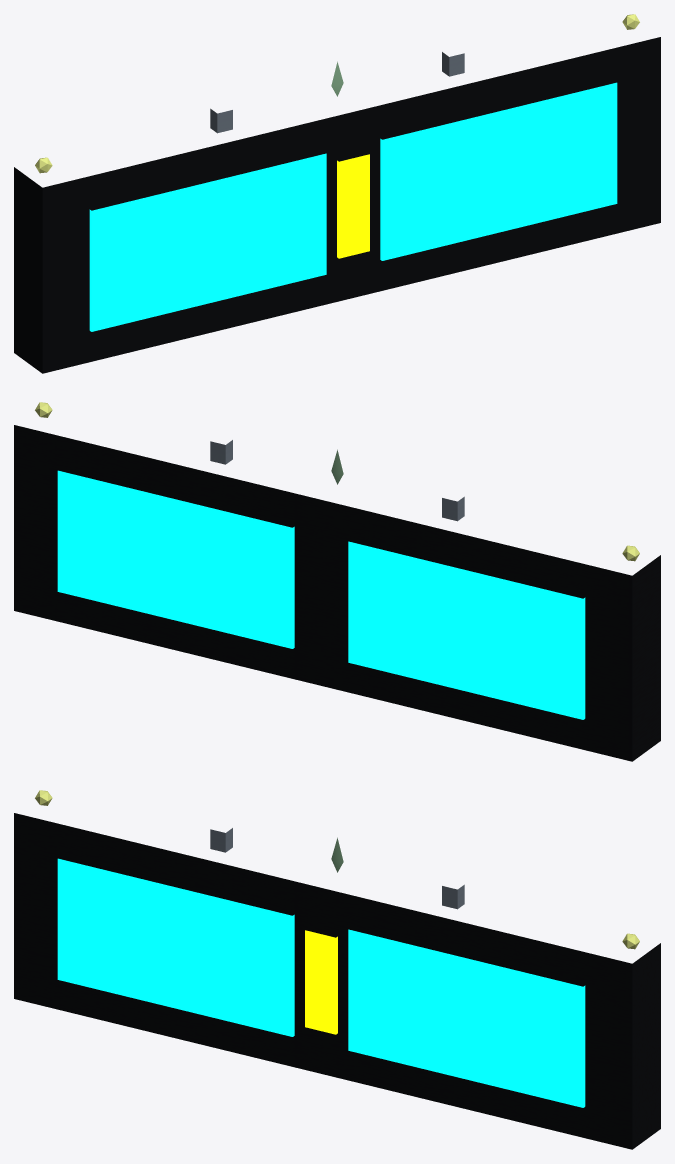
The model's file is tt_bb_scoreboard.glb.
3 renders of one model, top to bottom at view 1: azimuth 30°, elevation 25°; view 2: azimuth 150°, elevation 25°; view 3: azimuth 330°, elevation 25°, orthographic.
Parts seen in each view (by area): view 1: Body, Face_A, Face_B, Centre_Amber, Hang_Eyes; view 2: Body, Face_A_Back, Face_B_Back, Hang_Eyes; view 3: Body, Face_B, Face_A, Centre_Amber, Hang_Eyes.
Part boxes in pixels (x1,y1,x2,y2): Body: (14,37,660,373); Face_A: (89,153,326,331); Face_B: (380,82,617,260); Centre_Amber: (337,154,369,258); Hang_Eyes: (210,52,464,133); Body: (14,425,660,761); Face_A_Back: (348,541,585,719); Face_B_Back: (57,470,294,648); Hang_Eyes: (210,440,464,521); Body: (14,813,660,1149); Face_B: (348,929,585,1107); Face_A: (57,858,294,1036); Centre_Amber: (305,930,337,1034); Hang_Eyes: (210,828,464,909).
Size of what is drawn, in the model's own units: 4 by 1.4 by 0.38.
6 materials, 2 textured.
